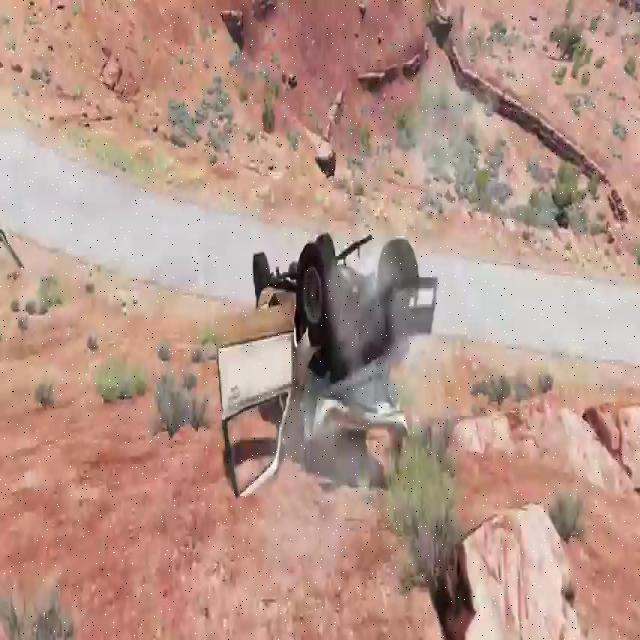severe: (213, 227, 440, 492)
